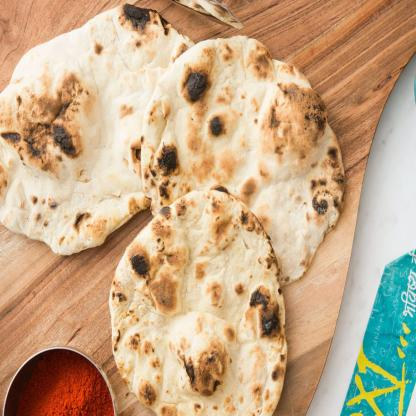naan: (140, 37, 344, 290), (0, 3, 197, 255), (109, 188, 288, 416)
